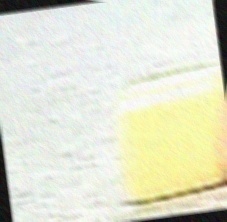yellow_cube: (106, 68, 227, 206)
